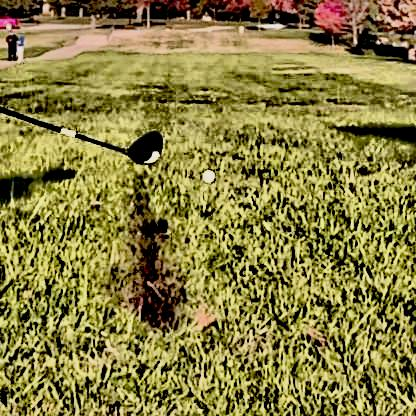golfball: (199, 164, 214, 179)
